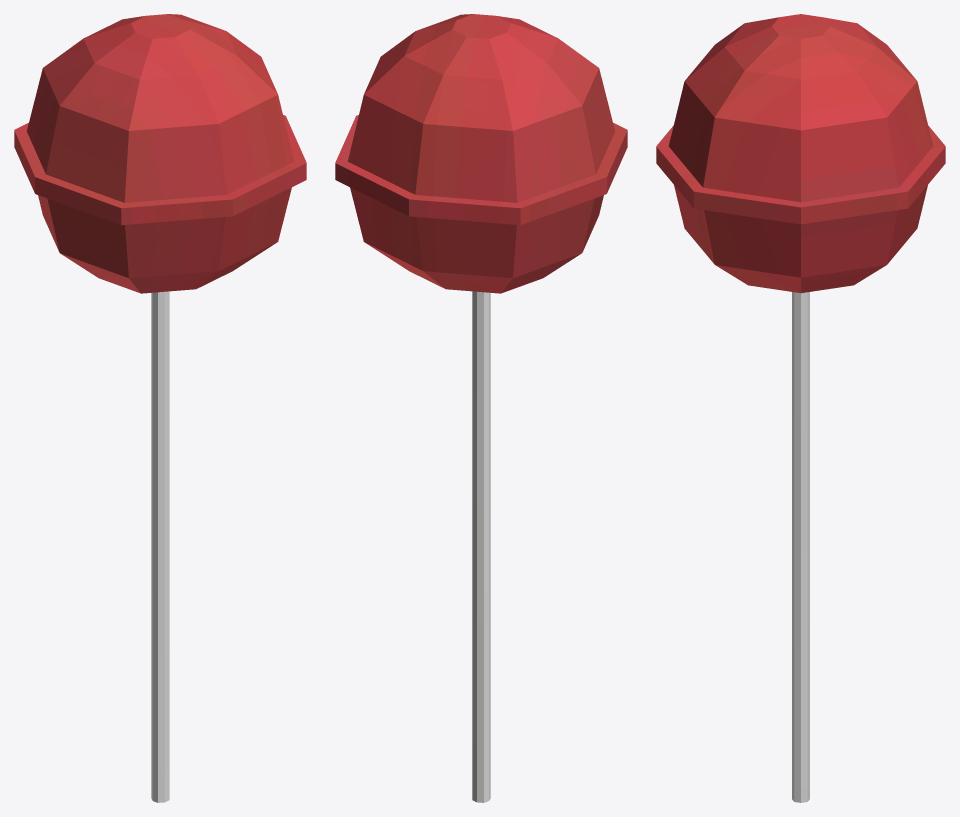
Rendered from CHAHIN_LOLLIPOP.obj.
3 renders of one model, left to right at view 1: azimuth 30°, elevation 25°; view 2: azimuth 150°, elevation 25°; view 3: azimuth 270°, elevation 25°, orthographic.
Parts seen in each view (by area): view 1: Cube.017_Cube.027; view 2: Cube.017_Cube.027; view 3: Cube.017_Cube.027.
Boxes of the visible parts, bbox=[...] form: Cube.017_Cube.027: bbox=[14, 14, 306, 802]; Cube.017_Cube.027: bbox=[335, 14, 627, 802]; Cube.017_Cube.027: bbox=[656, 14, 945, 802].
Bounding box in the file's own units: 0.562 × 1.65 × 0.562.
2 materials, 2 textured.
